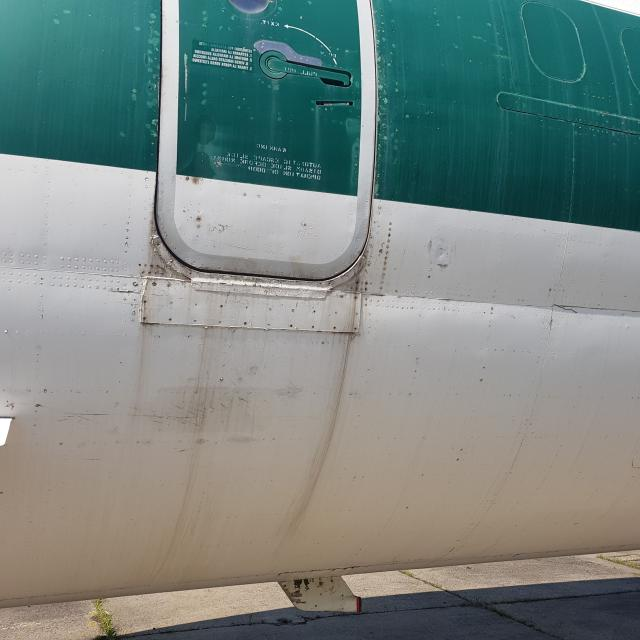Rupture: (552, 301, 582, 317)
